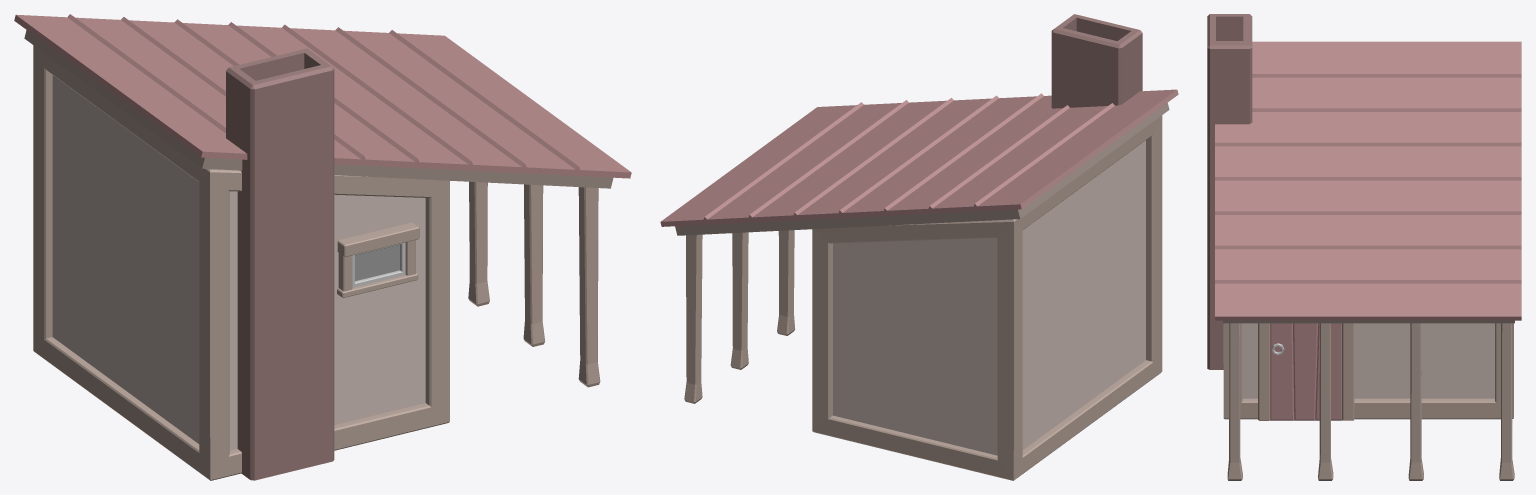
The model's file is fp_cabana_l2.glb.
3 renders of one model, left to right at view 1: azimuth 30°, elevation 25°; view 2: azimuth 150°, elevation 25°; view 3: azimuth 270°, elevation 25°, orthographic. The views are drawn at different scales.
Bounding box in the file's own units: 0.9 × 0.7885 × 0.6937.
